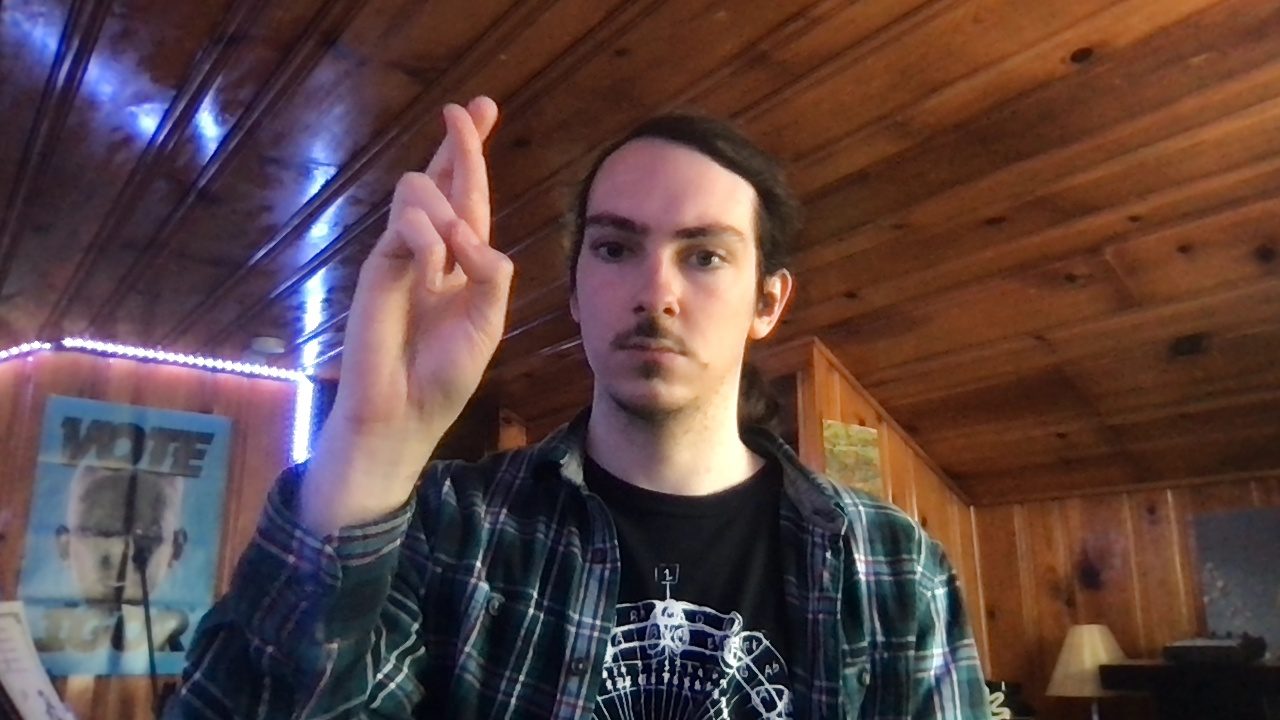r: (333, 93, 514, 430)
